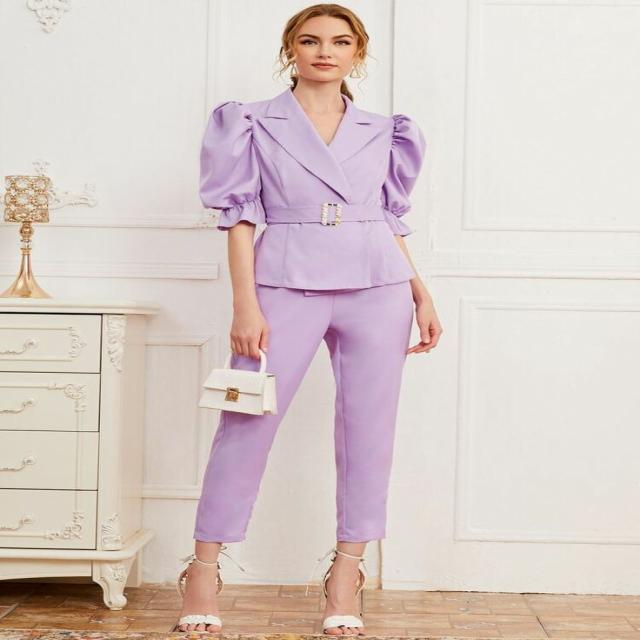female-dress: (181, 100, 428, 550)
